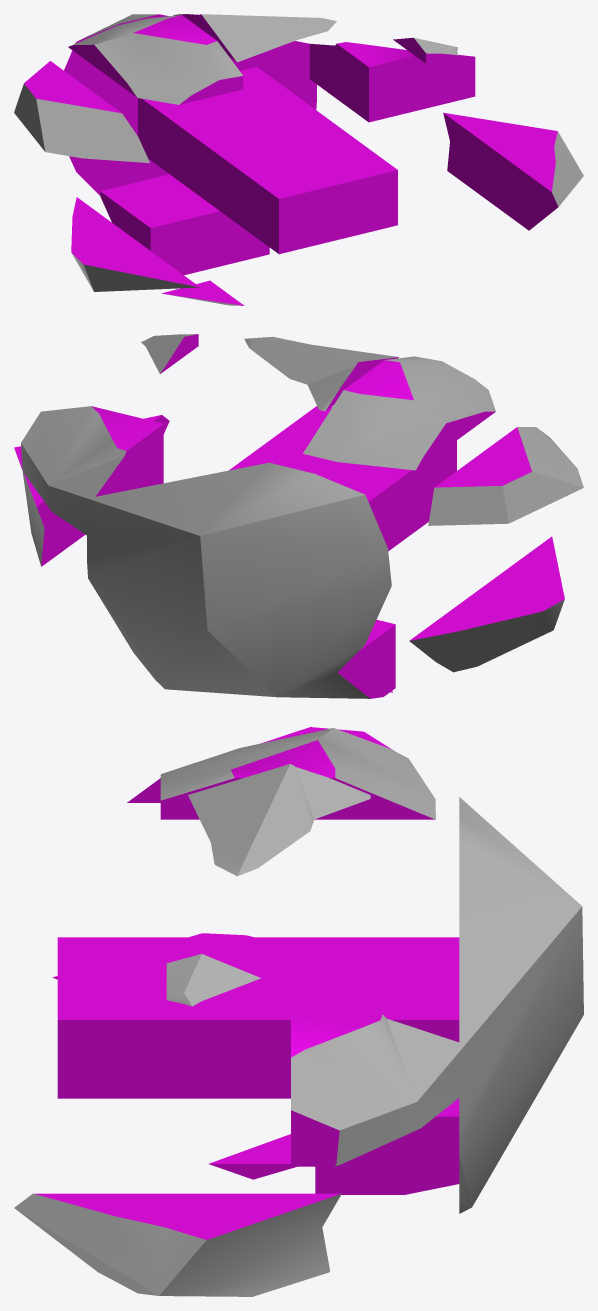
File: Boulder_3_Glitch.fbx
3 views of the same model, one above another, from view 1: azimuth 30°, elevation 25°; view 2: azimuth 150°, elevation 25°; view 3: azimuth 270°, elevation 25° (orthographic). The views are drawn at different scales.
Parts seen in each view (by area): view 1: Boulder_3_Glitch; view 2: Boulder_3_Glitch; view 3: Boulder_3_Glitch.
Boxes of the visible parts, <box> form: Boulder_3_Glitch: <box>14,14,583,305</box>; Boulder_3_Glitch: <box>14,334,583,698</box>; Boulder_3_Glitch: <box>14,727,583,1296</box>.
Size of the model in its own units: 7.37 by 3.92 by 4.99.
